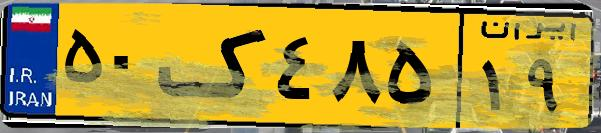0: (110, 28, 158, 98)
1: (475, 38, 525, 113)
4: (270, 28, 330, 110)
5: (385, 28, 445, 110), (57, 26, 110, 100)
8: (330, 28, 385, 110)
9: (525, 38, 570, 115)
ک: (158, 12, 270, 120)
